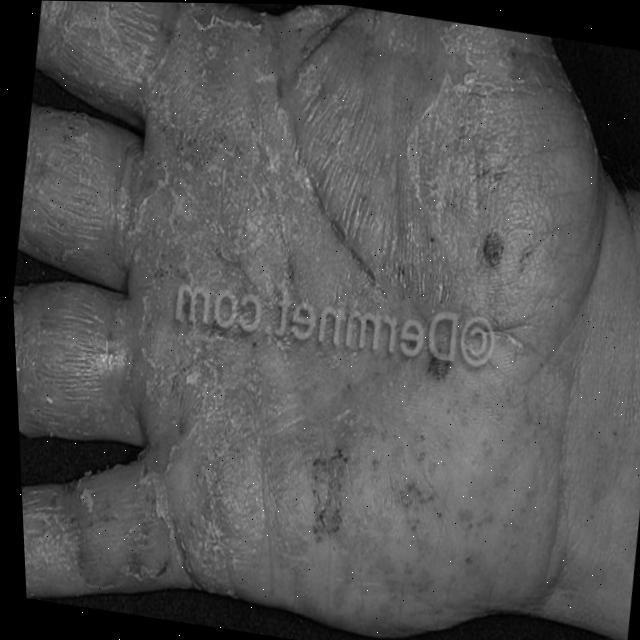Eczema: (0, 0, 534, 630)
